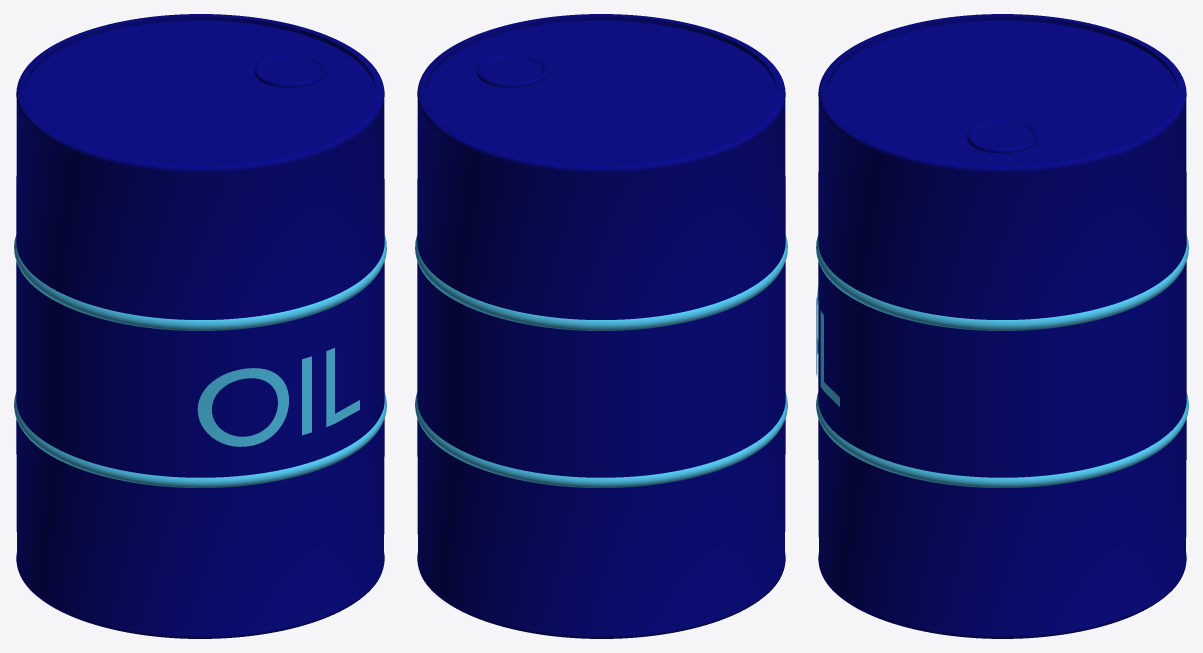
Rendered from Oil_Drum.fbx.
The picture shows the model from 3 angles, left to right: view 1: azimuth 30°, elevation 25°; view 2: azimuth 150°, elevation 25°; view 3: azimuth 270°, elevation 25°; orthographic projection.
Visible parts, largest first — view 1: Cylinder.002; view 2: Cylinder.002; view 3: Cylinder.002.
Boxes of the visible parts, x1,y1,x2,y2 form: Cylinder.002: (14, 14, 386, 638); Cylinder.002: (415, 14, 787, 638); Cylinder.002: (816, 14, 1188, 638).
Size of the model in its own units: 248 by 346 by 248.
